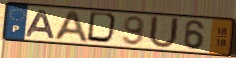6: (183, 19, 208, 51)
9: (121, 15, 147, 47)
A: (51, 10, 90, 44), (25, 9, 57, 40)
D: (85, 11, 121, 46)
U: (147, 14, 181, 50)
